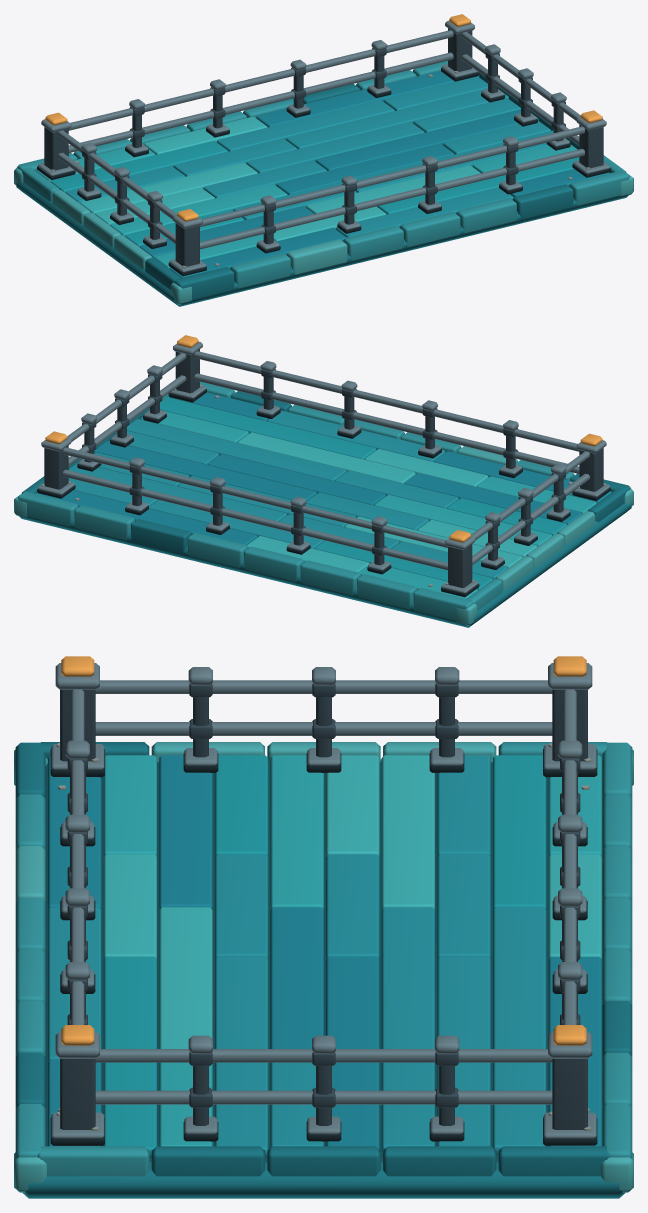
Rendered from wsc-module-008-zip-house-roof-deck.glb.
The picture shows the model from 3 angles, top to bottom: view 1: azimuth 30°, elevation 25°; view 2: azimuth 150°, elevation 25°; view 3: azimuth 270°, elevation 25°; orthographic projection. The views are drawn at different scales.
Visible parts, largest first — view 1: Zip House • flat cyan shell, jointed course, lower drip rail, Zip House • gunmetal double safety rails with amber newels; view 2: Zip House • flat cyan shell, jointed course, lower drip rail, Zip House • gunmetal double safety rails with amber newels; view 3: Zip House • flat cyan shell, jointed course, lower drip rail, Zip House • gunmetal double safety rails with amber newels.
Part boxes in pixels (x1,y1,x2,y2): Zip House • flat cyan shell, jointed course, lower drip rail: [14, 60, 633, 306]; Zip House • gunmetal double safety rails with amber newels: [37, 14, 610, 276]; Zip House • flat cyan shell, jointed course, lower drip rail: [14, 381, 633, 627]; Zip House • gunmetal double safety rails with amber newels: [37, 335, 610, 597]; Zip House • flat cyan shell, jointed course, lower drip rail: [14, 742, 633, 1198]; Zip House • gunmetal double safety rails with amber newels: [50, 656, 597, 1145].
Size of the model in its own units: 6.35 by 1.12 by 3.98.
